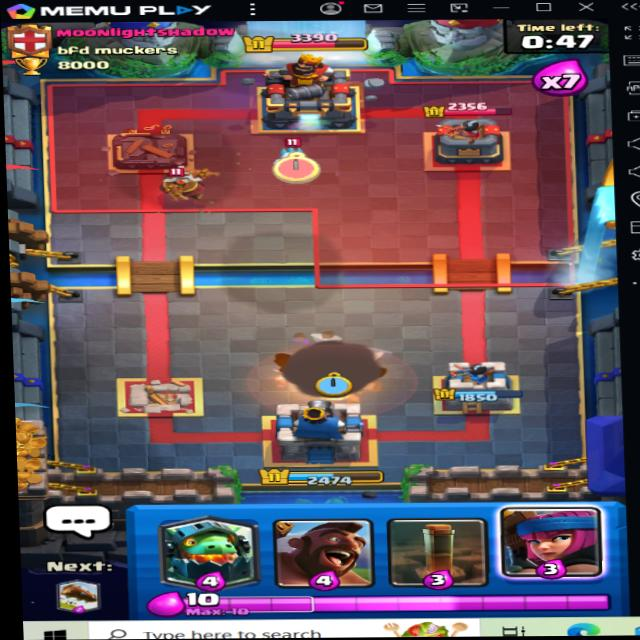Icespirit: (275, 141, 314, 170)
Monk: (143, 164, 219, 204)
